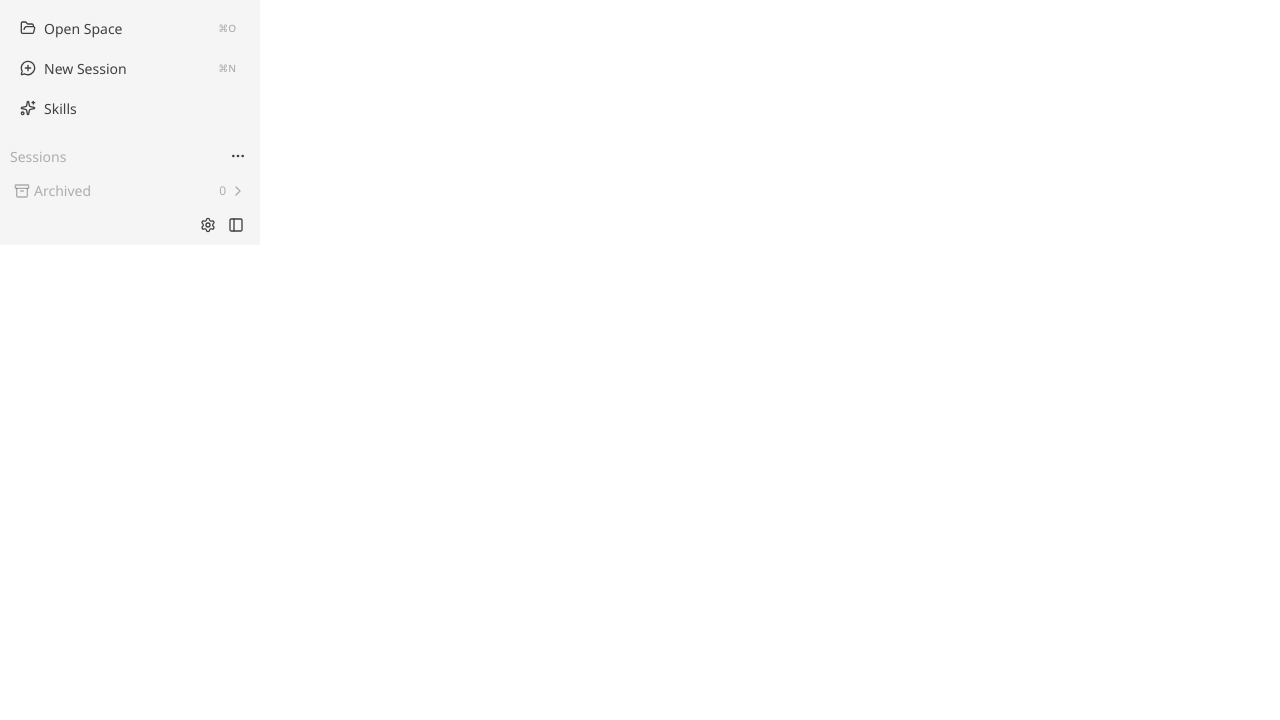
Test: SpacesList › opens the Open Space dialog from the New Session button when no space is selected
Step 1. Click the button "New Session ⌘N" → (130, 68), box [12,52,248,84]
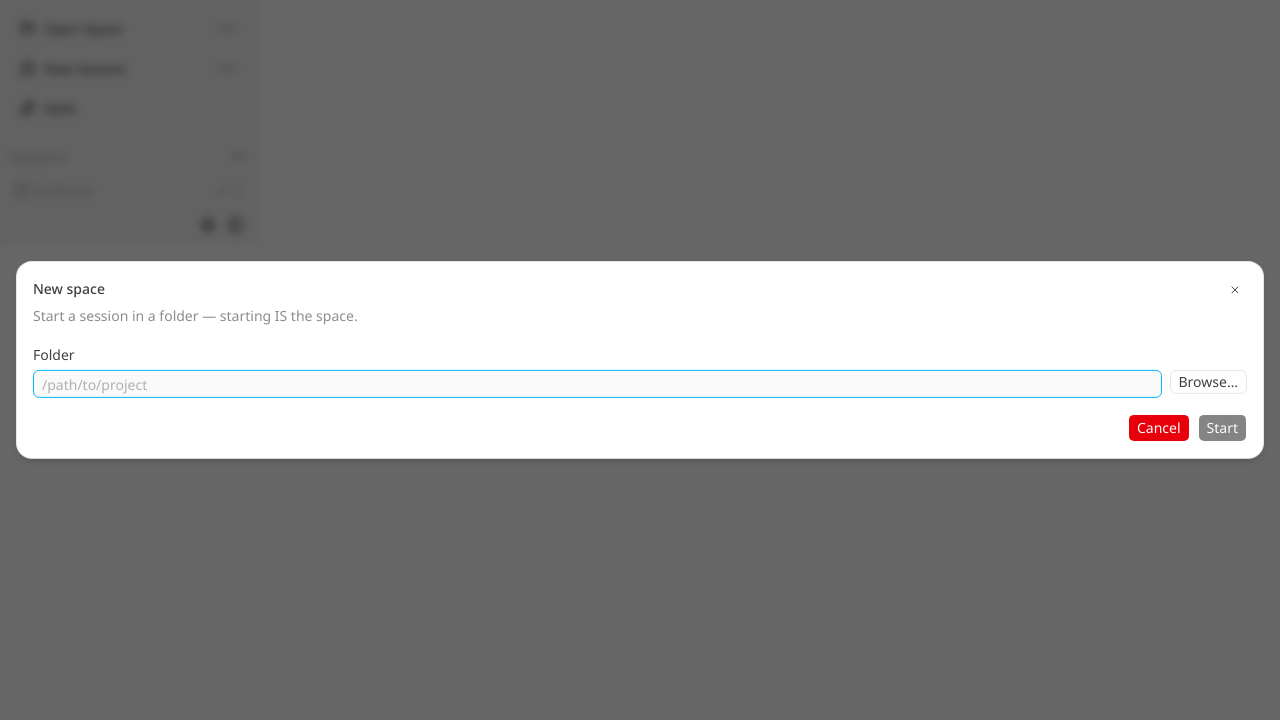
Now the heading "New space" is shown, box [33,279,105,298]
